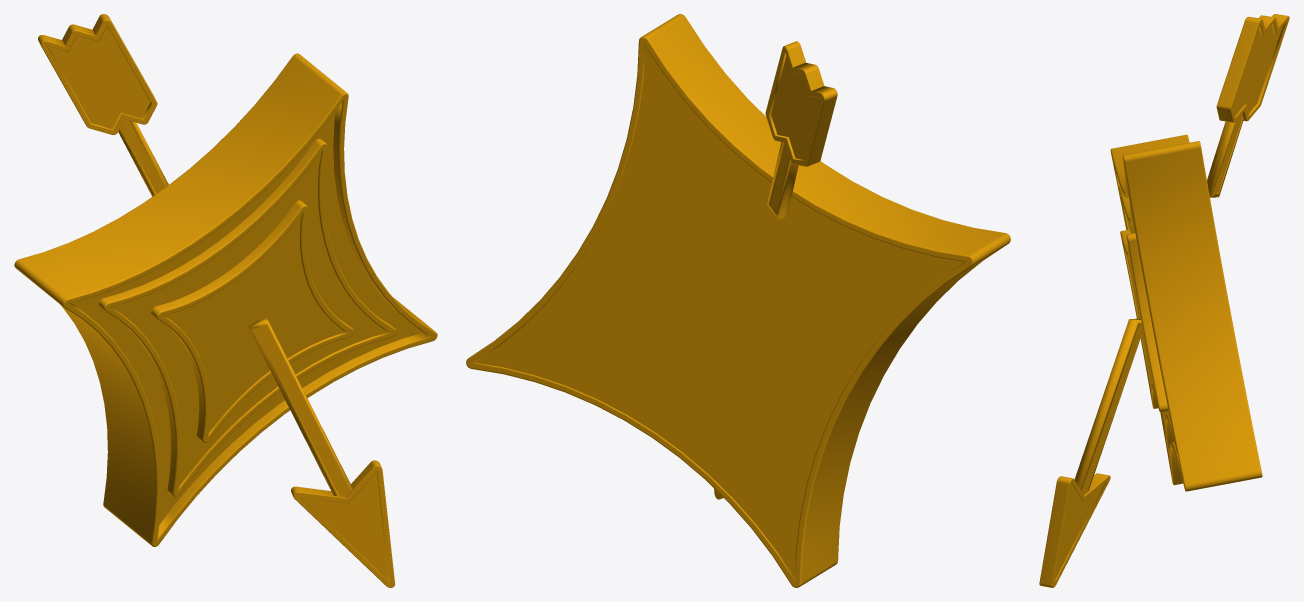
Rendered from 001_gold.glb.
3 views of the same model, side by side, from view 1: azimuth 30°, elevation 25°; view 2: azimuth 150°, elevation 25°; view 3: azimuth 270°, elevation 25° (orthographic). The views are drawn at different scales.
Parts seen in each view (by area): view 1: Curve.004, Curve.007, Curve.005, Curve.003, Curve.006, Curve.008, Curve.001, Curve.010, Curve.002, Curve.411, Curve.011, Curve.009 (+2 smaller); view 2: Curve.003, Curve.004, Curve.002, Curve.001, Curve; view 3: Curve.004, Curve.002, Curve.011, Curve.008, Curve.009, Curve.001, Curve.010, Curve.411, Curve, Curve.006, Curve.412, Curve.007.
Boxes of the visible parts, x1,y1,x2,y2 form: Curve.004: [14, 53, 437, 546]; Curve.007: [164, 215, 345, 432]; Curve.005: [111, 153, 387, 486]; Curve.003: [71, 111, 423, 524]; Curve.006: [99, 138, 396, 496]; Curve.008: [151, 200, 353, 443]; Curve.001: [48, 26, 150, 128]; Curve.010: [301, 472, 388, 580]; Curve.002: [38, 14, 157, 134]; Curve.411: [252, 324, 350, 496]; Curve.011: [291, 460, 395, 587]; Curve.009: [248, 317, 352, 496]; Curve.003: [475, 46, 964, 577]; Curve.004: [466, 14, 1010, 587]; Curve.002: [765, 41, 837, 166]; Curve.001: [771, 56, 820, 159]; Curve: [767, 142, 798, 219]; Curve.004: [1110, 134, 1262, 491]; Curve.002: [1216, 14, 1289, 122]; Curve.011: [1039, 473, 1110, 587]; Curve.008: [1120, 229, 1168, 412]; Curve.009: [1074, 318, 1142, 491]; Curve.001: [1233, 25, 1282, 114]; Curve.010: [1055, 483, 1104, 578]; Curve.411: [1082, 323, 1142, 494]; Curve: [1207, 116, 1243, 197]; Curve.006: [1119, 186, 1177, 453]; Curve.412: [1213, 114, 1242, 195]; Curve.007: [1127, 257, 1153, 385].
Size of the model in its own units: 1.45 by 1.73 by 0.8013.
